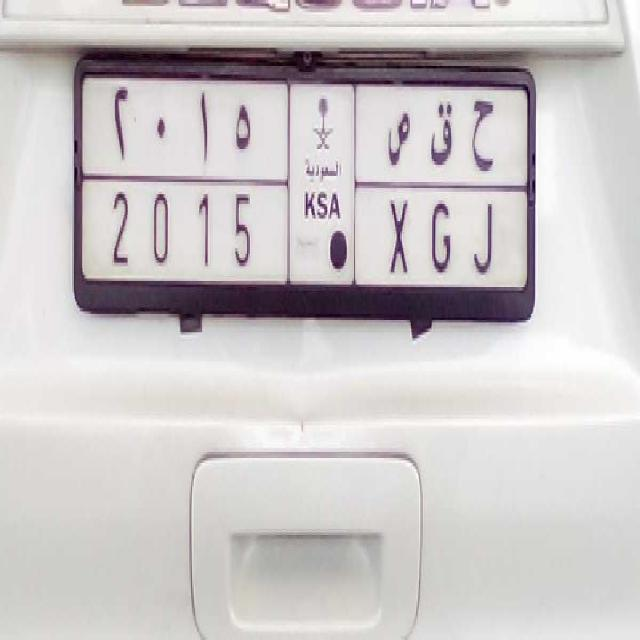license_plate: (90, 171, 508, 293)
